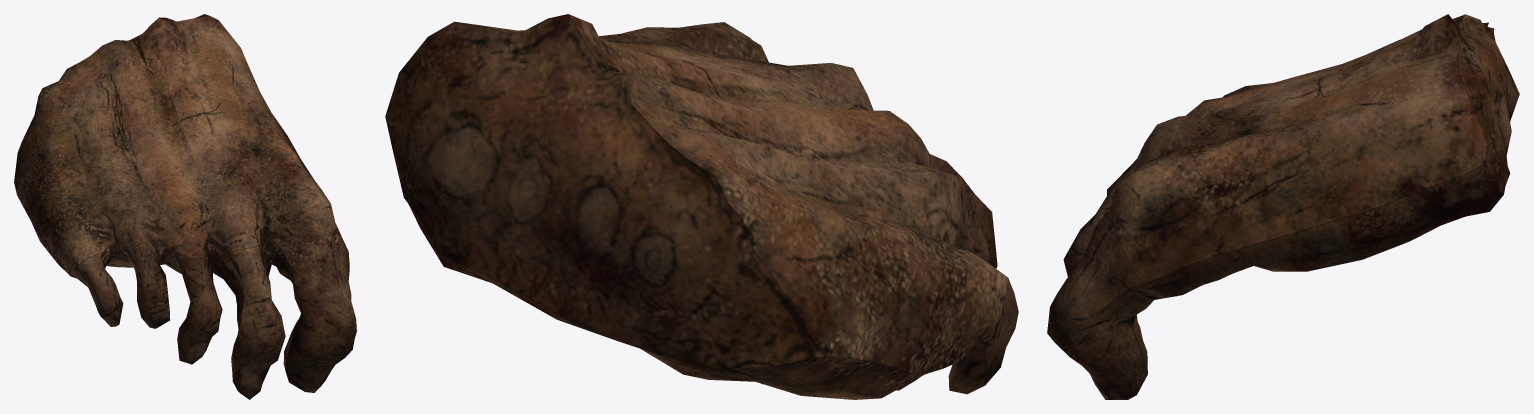
File: mummified_footthing.DAE
3 renders of one model, left to right at view 1: azimuth 30°, elevation 25°; view 2: azimuth 150°, elevation 25°; view 3: azimuth 270°, elevation 25°, orthographic. The views are drawn at different scales.
Visible parts, largest first — view 1: mummified_footthing; view 2: mummified_footthing; view 3: mummified_footthing.
Part boxes in pixels (x1,y1,x2,y2): mummified_footthing: (14,14,356,399); mummified_footthing: (385,14,1018,399); mummified_footthing: (1047,14,1519,399).
Size of the model in its own units: 0.1505 by 0.1969 by 0.1705.
